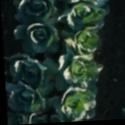cabbage: (65, 92, 82, 115), (31, 25, 48, 41), (20, 65, 37, 80), (21, 90, 35, 107), (73, 59, 86, 77), (75, 3, 90, 18), (29, 1, 46, 12), (78, 31, 88, 44), (30, 113, 39, 124), (13, 116, 21, 125)
